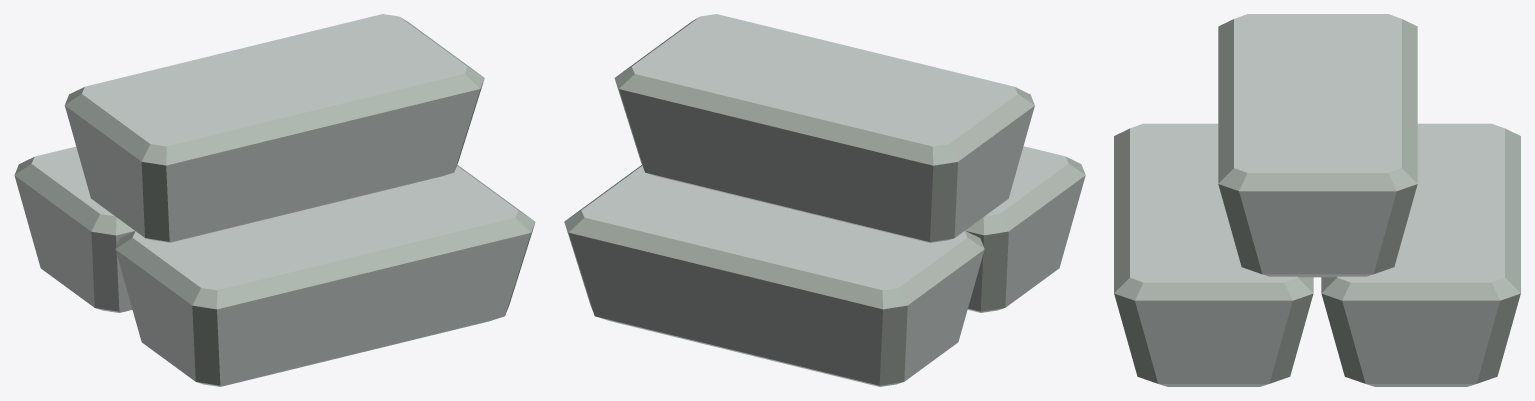
Rendered from SM_Nickel_ingots.glb.
The picture shows the model from 3 angles, left to right: view 1: azimuth 30°, elevation 25°; view 2: azimuth 150°, elevation 25°; view 3: azimuth 270°, elevation 25°; orthographic projection. The views are drawn at different scales.
Visible parts, largest first — view 1: SM_Nickel_ingots; view 2: SM_Nickel_ingots; view 3: SM_Nickel_ingots.
Boxes of the visible parts, x1,y1,x2,y2 form: SM_Nickel_ingots: [14, 14, 535, 386]; SM_Nickel_ingots: [564, 14, 1085, 386]; SM_Nickel_ingots: [1114, 14, 1520, 386].
Size of the model in its own units: 0.5 by 0.3 by 0.5.
Materials: 1 (1 with a texture image).
